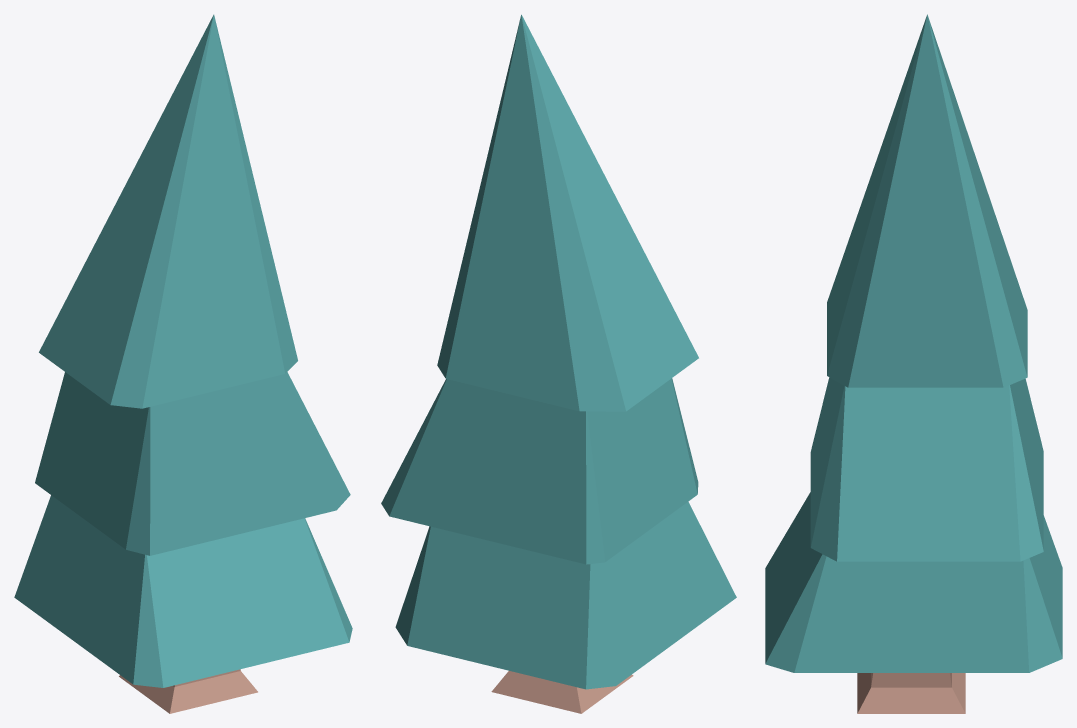
The model's file is tree_pineSmallB.glb.
3 renders of one model, left to right at view 1: azimuth 30°, elevation 25°; view 2: azimuth 150°, elevation 25°; view 3: azimuth 270°, elevation 25°, orthographic. The views are drawn at different scales.
Parts seen in each view (by area): view 1: tree_pineSmallB; view 2: tree_pineSmallB; view 3: tree_pineSmallB.
Part boxes in pixels (x1=…): tree_pineSmallB: x1=14, y1=14, x2=352, y2=713; tree_pineSmallB: x1=381, y1=14, x2=736, y2=713; tree_pineSmallB: x1=765, y1=14, x2=1062, y2=713.
Size of the model in its own units: 0.3863 by 1.01 by 0.392.
